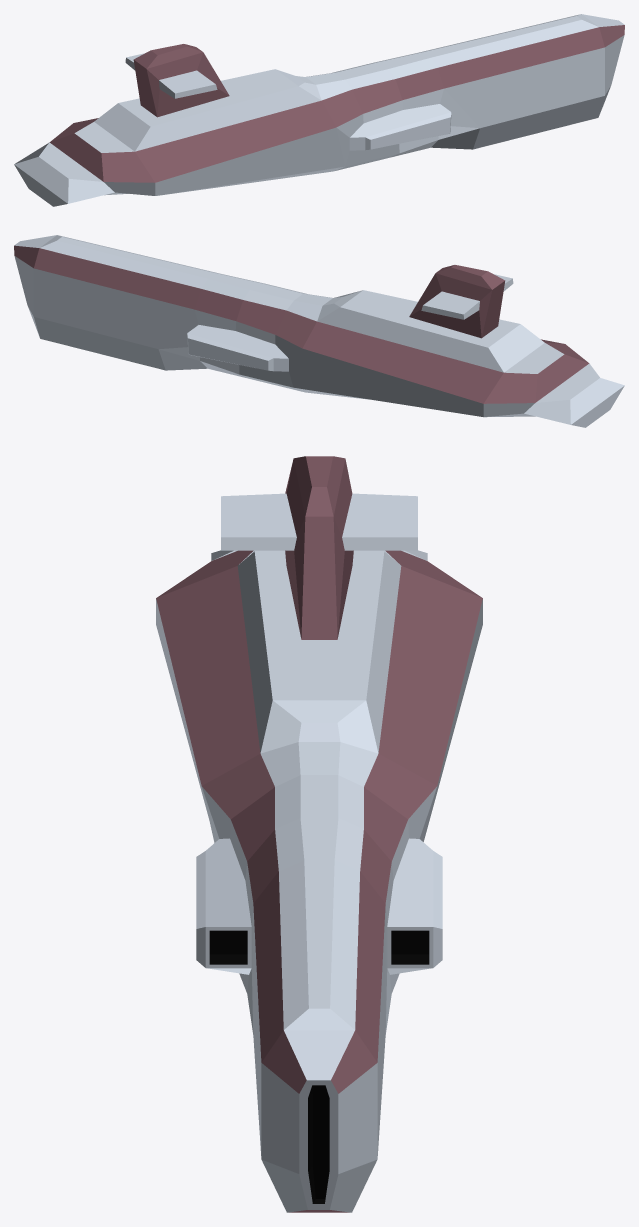
File: SkyFireShipDraft1.fbx
3 views of the same model, one above another, from view 1: azimuth 30°, elevation 25°; view 2: azimuth 150°, elevation 25°; view 3: azimuth 270°, elevation 25° (orthographic). The views are drawn at different scales.
Parts seen in each view (by area): view 1: Cube; view 2: Cube; view 3: Cube.
Part boxes in pixels (left/top/right/bottom): Cube: left=14, top=14, right=624, bottom=206; Cube: left=14, top=235, right=624, bottom=427; Cube: left=156, top=456, right=482, bottom=1212.
Size of the model in its own units: 2511 by 684 by 612.
